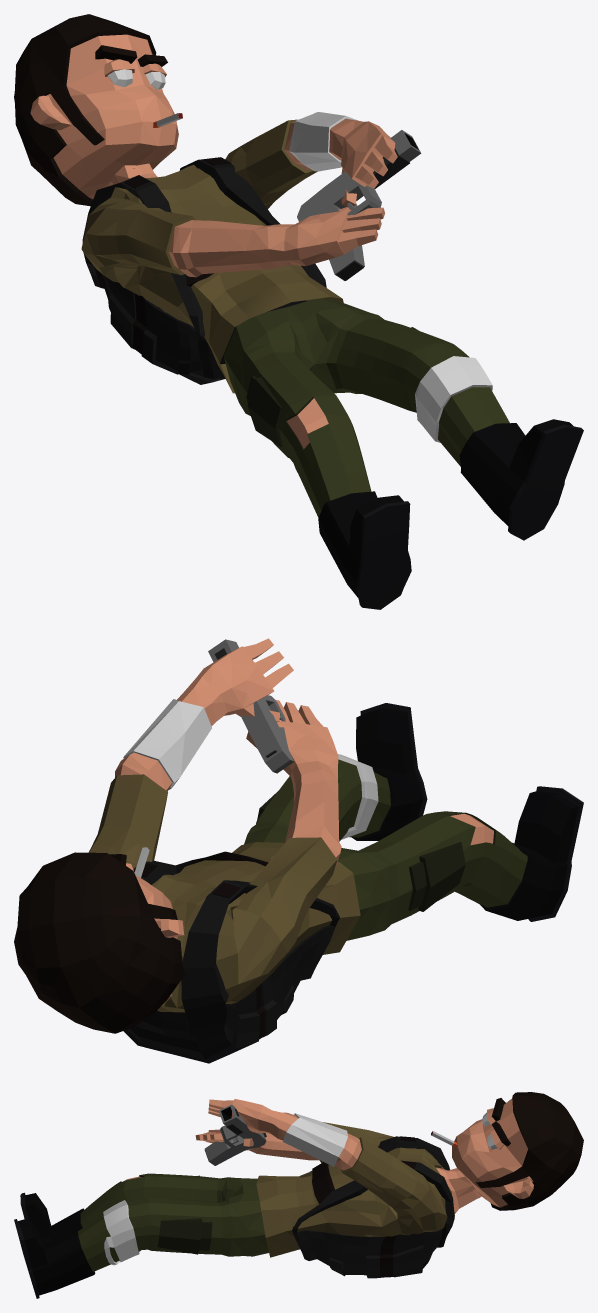
File: frame_0113.obj
3 views of the same model, one above another, from view 1: azimuth 30°, elevation 25°; view 2: azimuth 150°, elevation 25°; view 3: azimuth 270°, elevation 25° (orthographic). The views are drawn at different scales.
Parts seen in each view (by area): view 1: Body, Gun; view 2: Body, Gun; view 3: Body, Gun.
Boxes of the visible parts, left/top/right/bottom form: Body: left=14, top=14, right=583, bottom=609; Gun: left=297, top=130, right=421, bottom=280; Body: left=14, top=638, right=583, bottom=1063; Gun: left=208, top=639, right=293, bottom=773; Body: left=14, top=1092, right=583, bottom=1298; Gun: left=204, top=1104, right=266, bottom=1165.
Bounding box in the file's own units: 1.23 × 1.82 × 4.14.
